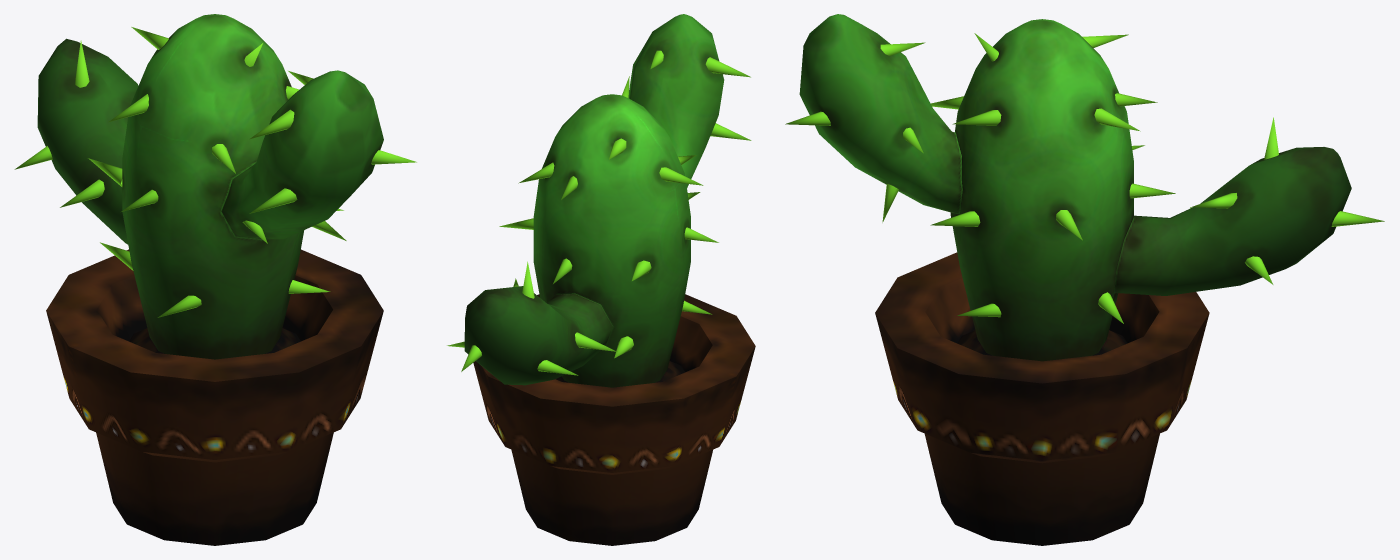
The model's file is MASETITA ( SPIKE)_mafer.fbx.
The picture shows the model from 3 angles, left to right: view 1: azimuth 30°, elevation 25°; view 2: azimuth 150°, elevation 25°; view 3: azimuth 270°, elevation 25°; orthographic projection. The views are drawn at different scales.
Parts seen in each view (by area): view 1: SPIKE, SPIKE.001; view 2: SPIKE, SPIKE.001; view 3: SPIKE, SPIKE.001.
Part boxes in pixels (x1,y1,x2,y2): SPIKE: [37, 14, 383, 545]; SPIKE.001: [14, 27, 416, 317]; SPIKE: [464, 14, 755, 545]; SPIKE.001: [447, 50, 751, 375]; SPIKE: [799, 14, 1351, 545]; SPIKE.001: [785, 33, 1384, 323].
Size of the model in its own units: 474 by 779 by 851.
2 materials, 1 textured.
